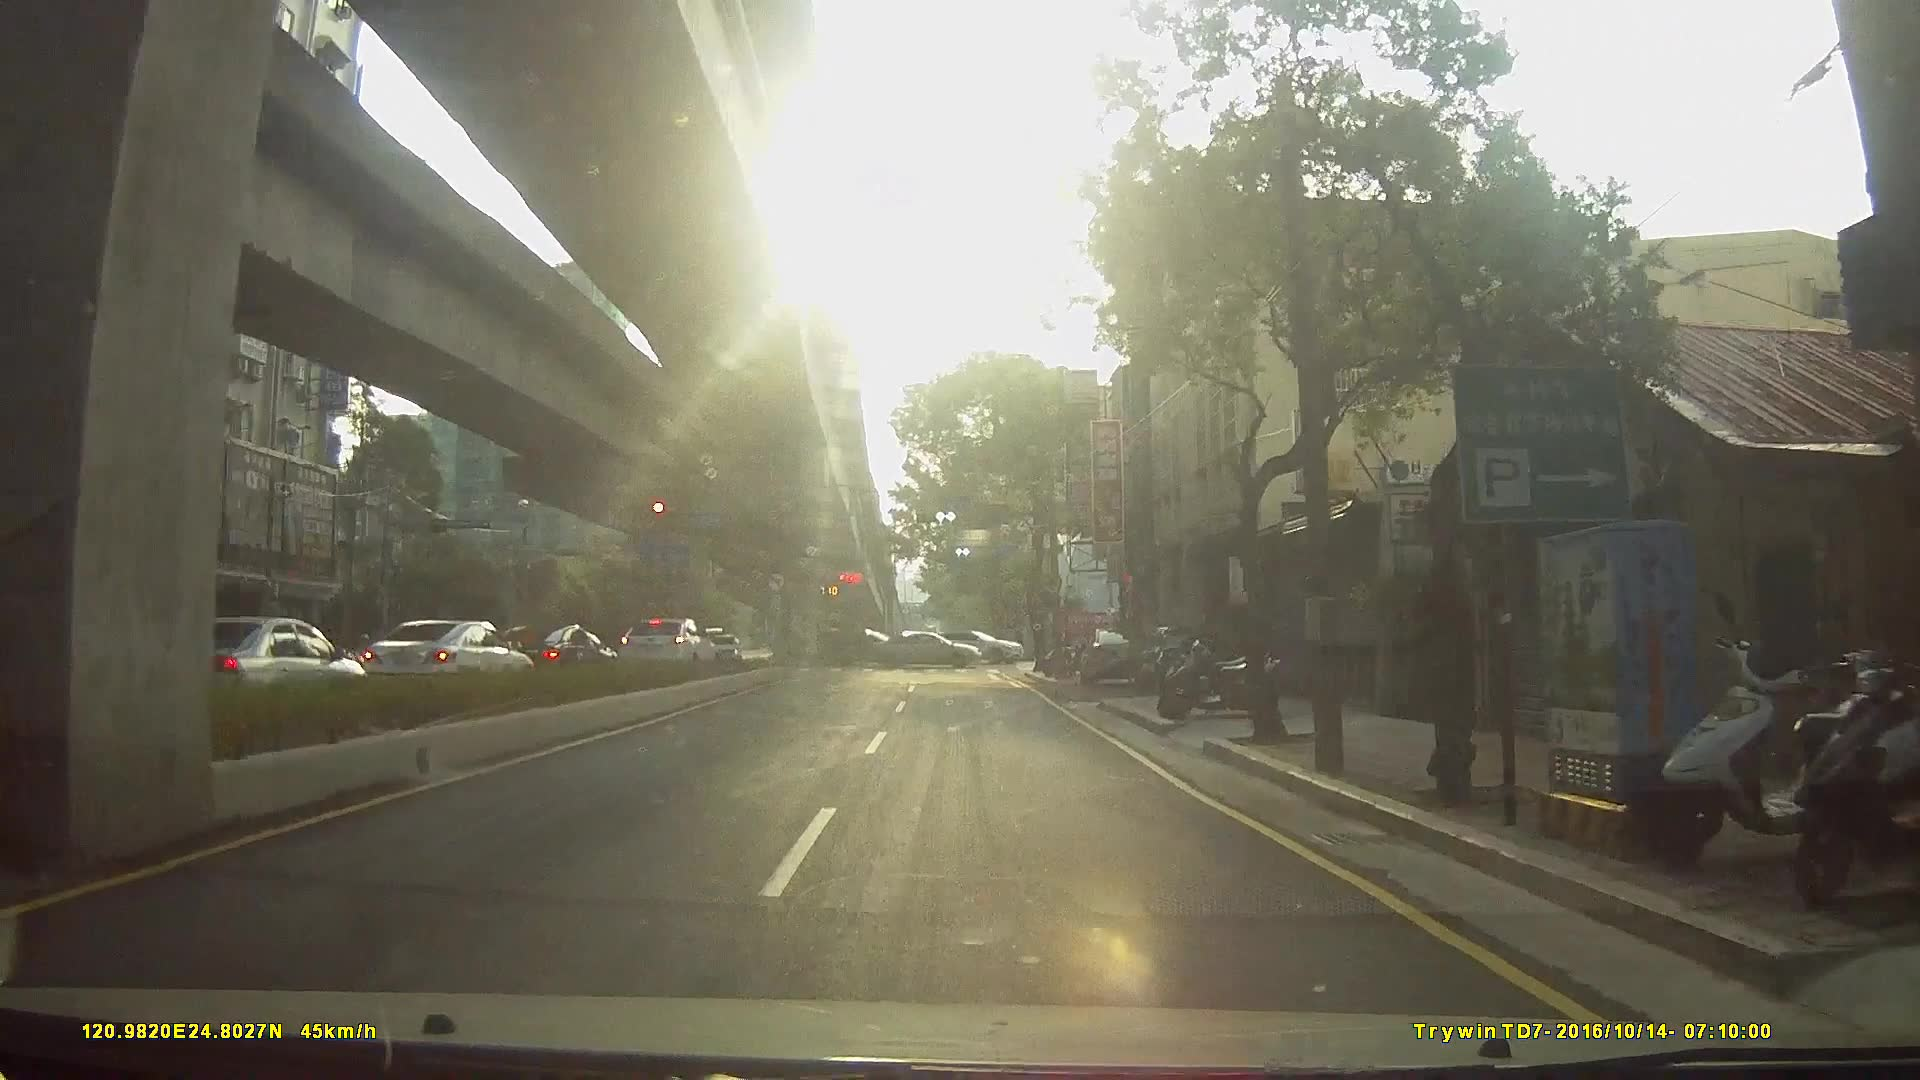vehicle: (146, 615, 373, 720), (353, 616, 541, 702), (484, 621, 616, 684), (612, 615, 721, 673), (1073, 626, 1150, 688), (877, 626, 990, 667), (824, 626, 909, 669), (942, 626, 1029, 665), (703, 632, 740, 665)
